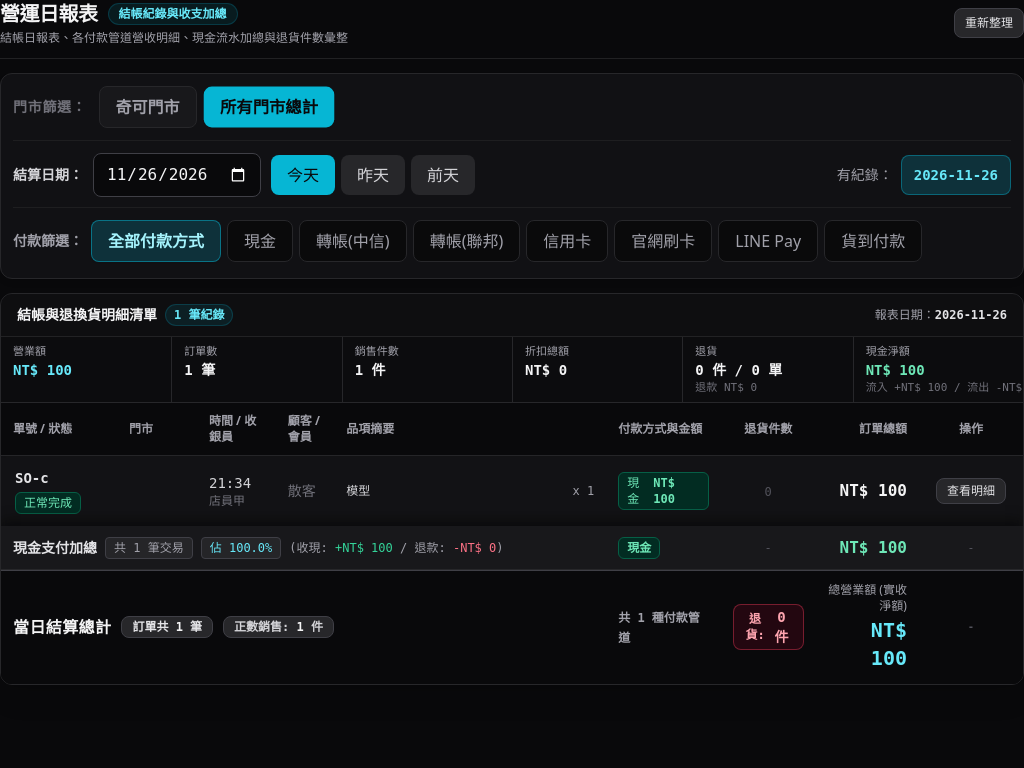
Test: ReportsPage store buttons › leaves the store blank in the detail popup for an order of an unknown store
expect the text "SO-c" is shown: met, box [15, 468, 49, 488]
What coordinates should you click on to do the following:
click the button "查看明細"
I would click on:
 (971, 491)
Its box is [936, 478, 1006, 504].
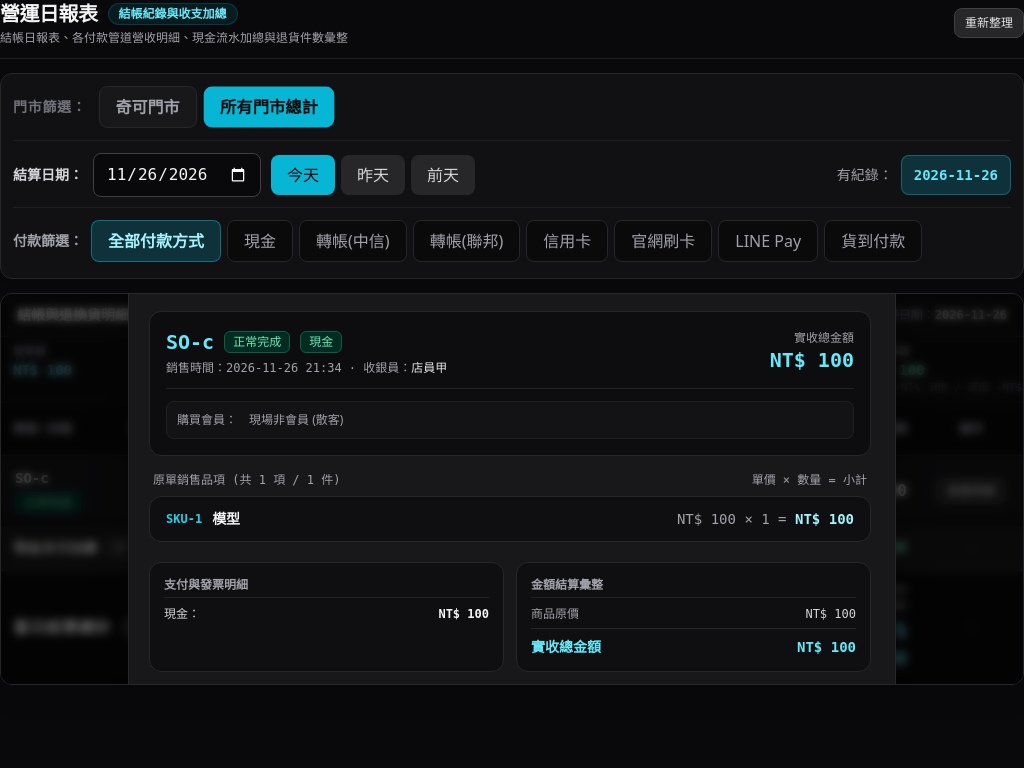
expect the text "銷售時間：2026-11-26 21:34 · 收銀員：店員甲" is shown: met, box [166, 360, 447, 376]
